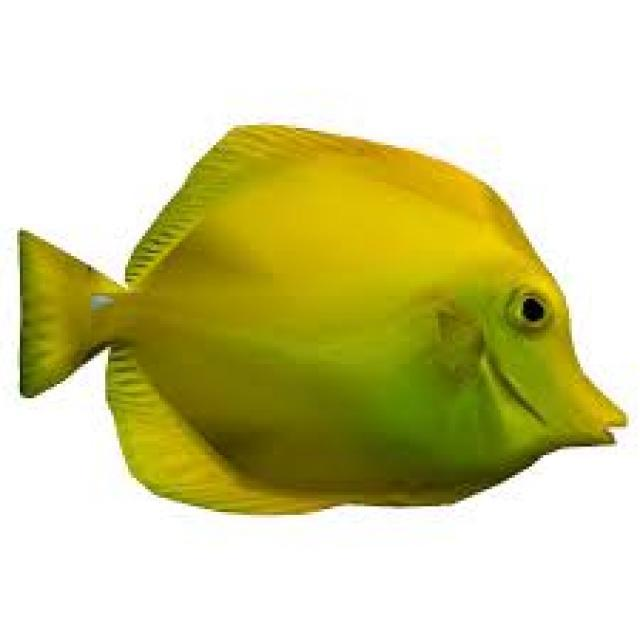YellowTang: (13, 111, 633, 537)
